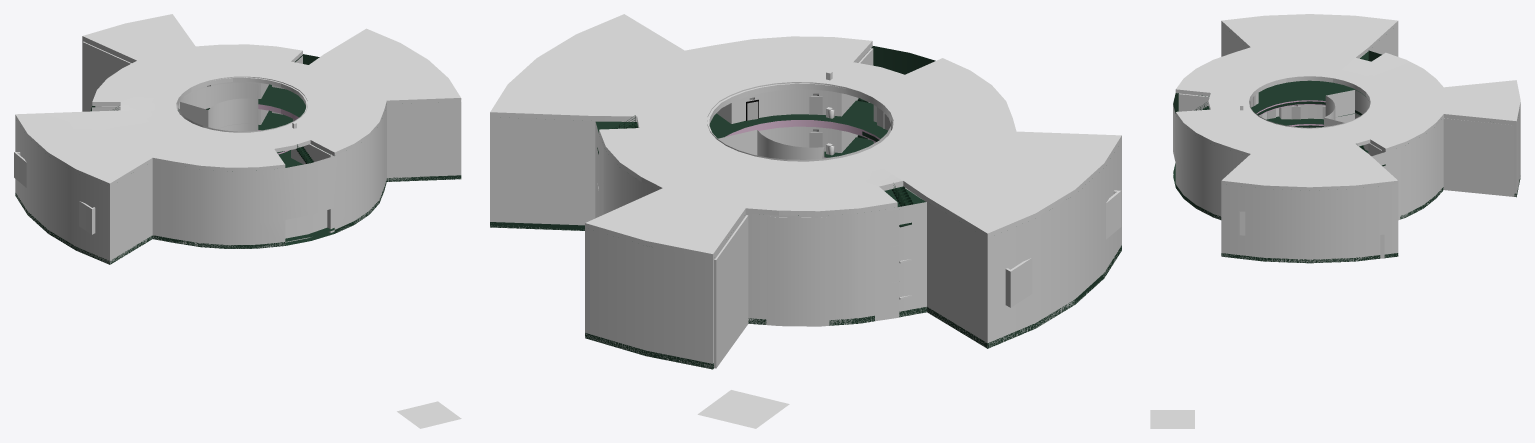
The model's file is main_interior LA sh (1).fbx.
3 views of the same model, side by side, from view 1: azimuth 30°, elevation 25°; view 2: azimuth 150°, elevation 25°; view 3: azimuth 270°, elevation 25° (orthographic). The views are drawn at different scales.
Visible parts, largest first — view 1: Circle.042, Circle.014, Circle.041, Circle, Circle.037, Circle.027, Plane.005, Circle.013, Circle.019, Circle.046, Circle.020; view 2: Circle.042, Circle.014, Circle, Circle.037, Circle.002, Circle.020, Circle.034, Circle.027, Plane.005, Circle.019, Circle.041, Circle.017 (+5 smaller); view 3: Circle.042, Circle.014, Circle.027, Circle.037, Circle.020, Circle.002, Circle, Circle.041, Plane.005, Circle.046, Circle.035, Circle.019 (+2 smaller).
Boxes of the visible parts, x1=… form: Circle.042: x1=15, y1=14, x2=461, y2=186; Circle.014: x1=15, y1=39, x2=461, y2=264; Circle.041: x1=180, y1=83, x2=258, y2=128; Circle: x1=15, y1=54, x2=461, y2=264; Circle.037: x1=82, y1=41, x2=268, y2=109; Circle.027: x1=177, y1=84, x2=330, y2=167; Plane.005: x1=397, y1=401, x2=461, y2=428; Circle.013: x1=285, y1=210, x2=327, y2=242; Circle.019: x1=14, y1=152, x2=95, y2=234; Circle.046: x1=178, y1=76, x2=307, y2=132; Circle.020: x1=82, y1=68, x2=268, y2=124; Circle.042: x1=490, y1=14, x2=1121, y2=258; Circle.014: x1=490, y1=117, x2=1121, y2=368; Circle: x1=490, y1=46, x2=1121, y2=369; Circle.037: x1=714, y1=215, x2=829, y2=295; Circle.002: x1=714, y1=288, x2=829, y2=368; Circle.020: x1=714, y1=252, x2=829, y2=332; Circle.034: x1=716, y1=48, x2=873, y2=123; Circle.027: x1=596, y1=100, x2=925, y2=206; Plane.005: x1=697, y1=390, x2=789, y2=428; Circle.019: x1=1005, y1=190, x2=1121, y2=307; Circle.041: x1=718, y1=130, x2=824, y2=159; Circle.017: x1=759, y1=102, x2=869, y2=152; Circle.042: x1=1175, y1=14, x2=1520, y2=190; Circle.014: x1=1173, y1=24, x2=1520, y2=263; Circle.027: x1=1178, y1=51, x2=1368, y2=153; Circle.037: x1=1363, y1=98, x2=1514, y2=150; Circle.020: x1=1443, y1=142, x2=1514, y2=172; Circle.002: x1=1443, y1=166, x2=1514, y2=196; Circle: x1=1173, y1=50, x2=1520, y2=263; Circle.041: x1=1324, y1=90, x2=1369, y2=126; Plane.005: x1=1150, y1=410, x2=1194, y2=428; Circle.046: x1=1249, y1=76, x2=1370, y2=128; Circle.035: x1=1178, y1=93, x2=1258, y2=111; Circle.019: x1=1279, y1=104, x2=1336, y2=119.
Size of the model in its own units: 9162 by 6652 by 8280.
